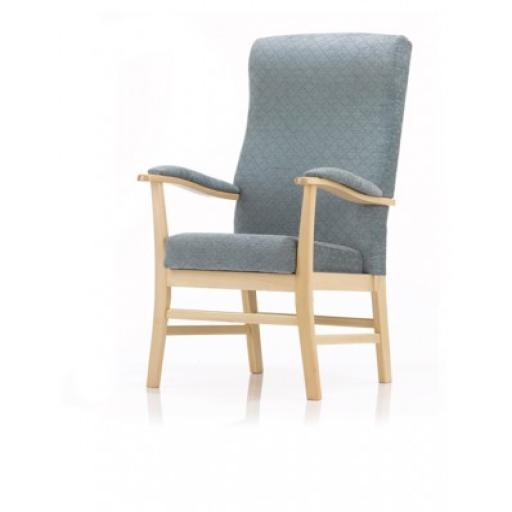chair: (138, 34, 412, 401)
